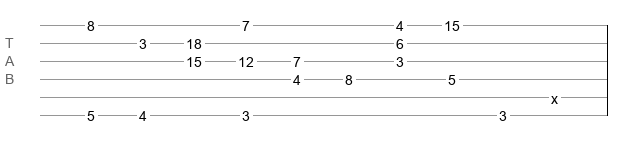12: (238, 54, 254, 64)
15: (186, 54, 202, 64), (444, 18, 460, 28)
18: (186, 36, 202, 46)
3: (139, 36, 147, 46), (242, 108, 250, 118), (396, 54, 404, 64), (499, 108, 507, 118)
4: (139, 108, 147, 118), (293, 72, 301, 82), (396, 18, 404, 28)
5: (87, 108, 95, 118), (448, 72, 456, 82)
6: (396, 36, 404, 46)
7: (242, 18, 250, 28), (293, 54, 301, 64)
8: (87, 18, 95, 28), (345, 72, 353, 82)
x: (551, 91, 558, 99)
